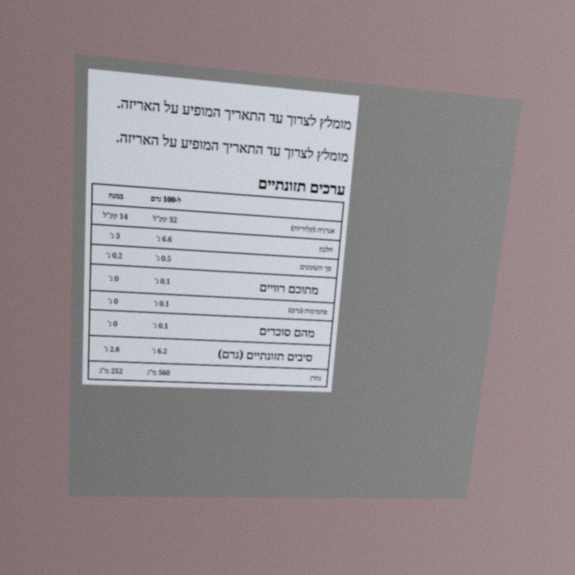carbs: (152, 297, 171, 310)
energy: (151, 212, 179, 226)
fat: (154, 252, 173, 265)
protein: (155, 232, 174, 246)
